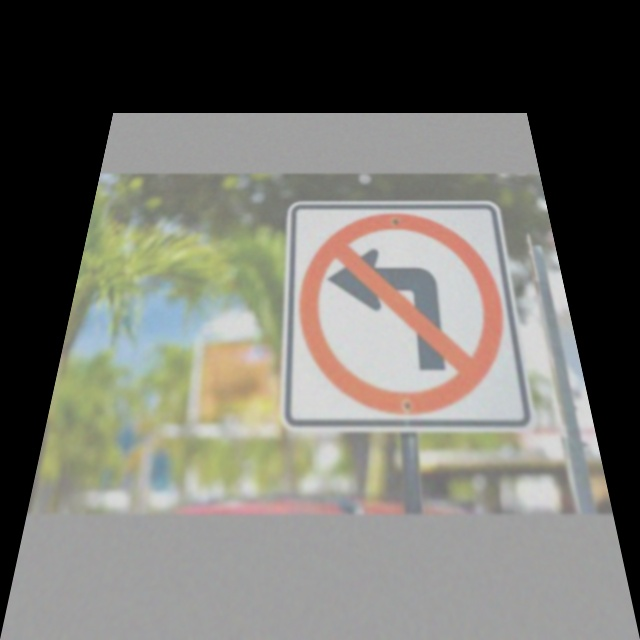Left_Turn_Prohibited: (296, 212, 525, 421)
